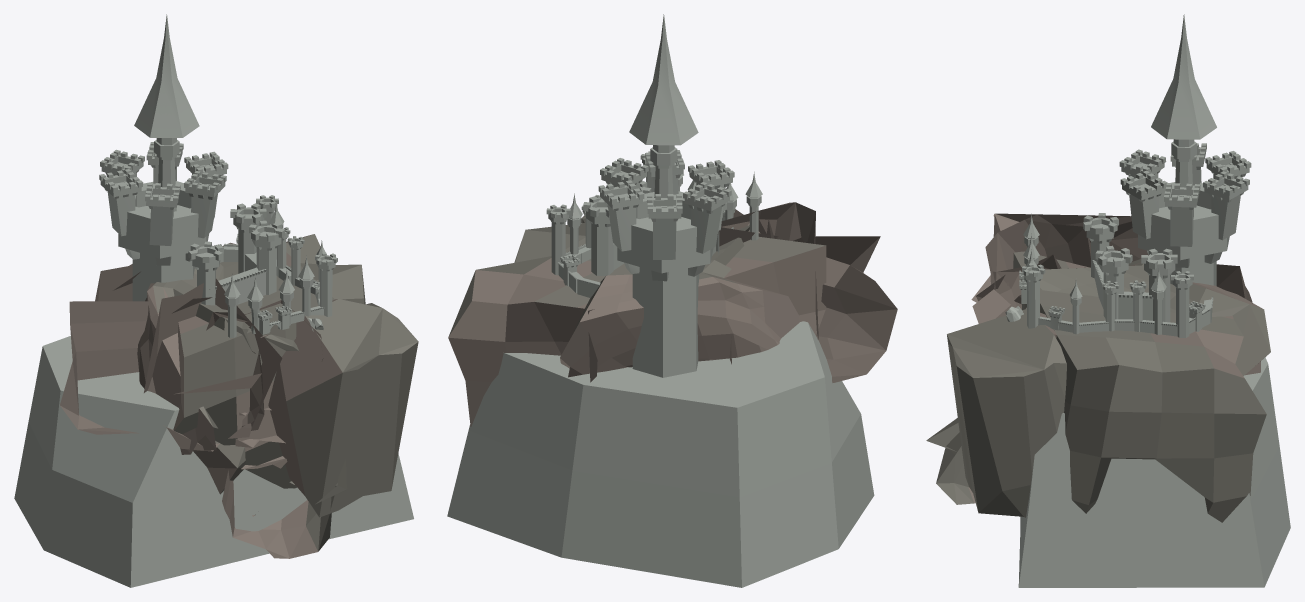
File: Low_Poly_Castle_446bfc96.glb
3 renders of one model, left to right at view 1: azimuth 30°, elevation 25°; view 2: azimuth 150°, elevation 25°; view 3: azimuth 270°, elevation 25°, orthographic. The views are drawn at different scales.
Visible parts, largest first — view 1: Cube.003_2, Cube.003_6, Cube.003_0, Cube.003_1, Cube.003_7, Cube.003_4; view 2: Cube.003_6, Cube.003_2, Cube.003_0, Cube.003_1, Cube.003_4, Cube.003_7; view 3: Cube.003_2, Cube.003_6, Cube.003_0, Cube.003_1, Cube.003_4, Cube.003_7.
Boxes of the visible parts, x1,y1,x2,y2 form: Cube.003_2: (60, 234, 418, 558); Cube.003_6: (14, 336, 413, 587); Cube.003_0: (99, 138, 337, 337); Cube.003_1: (134, 14, 326, 300); Cube.003_7: (125, 262, 412, 533); Cube.003_4: (103, 138, 334, 337); Cube.003_6: (447, 321, 874, 587); Cube.003_2: (448, 202, 897, 426); Cube.003_0: (546, 145, 761, 377); Cube.003_1: (569, 14, 762, 218); Cube.003_4: (547, 145, 758, 377); Cube.003_7: (452, 210, 847, 380); Cube.003_2: (926, 213, 1270, 522); Cube.003_6: (1018, 357, 1290, 587); Cube.003_0: (1019, 139, 1251, 337); Cube.003_1: (1023, 14, 1216, 298); Cube.003_4: (1019, 139, 1248, 335); Cube.003_7: (939, 218, 1261, 508).
Size of the model in its own units: 91.28 by 135 by 90.52.
Materials: 4 (3 with a texture image).
